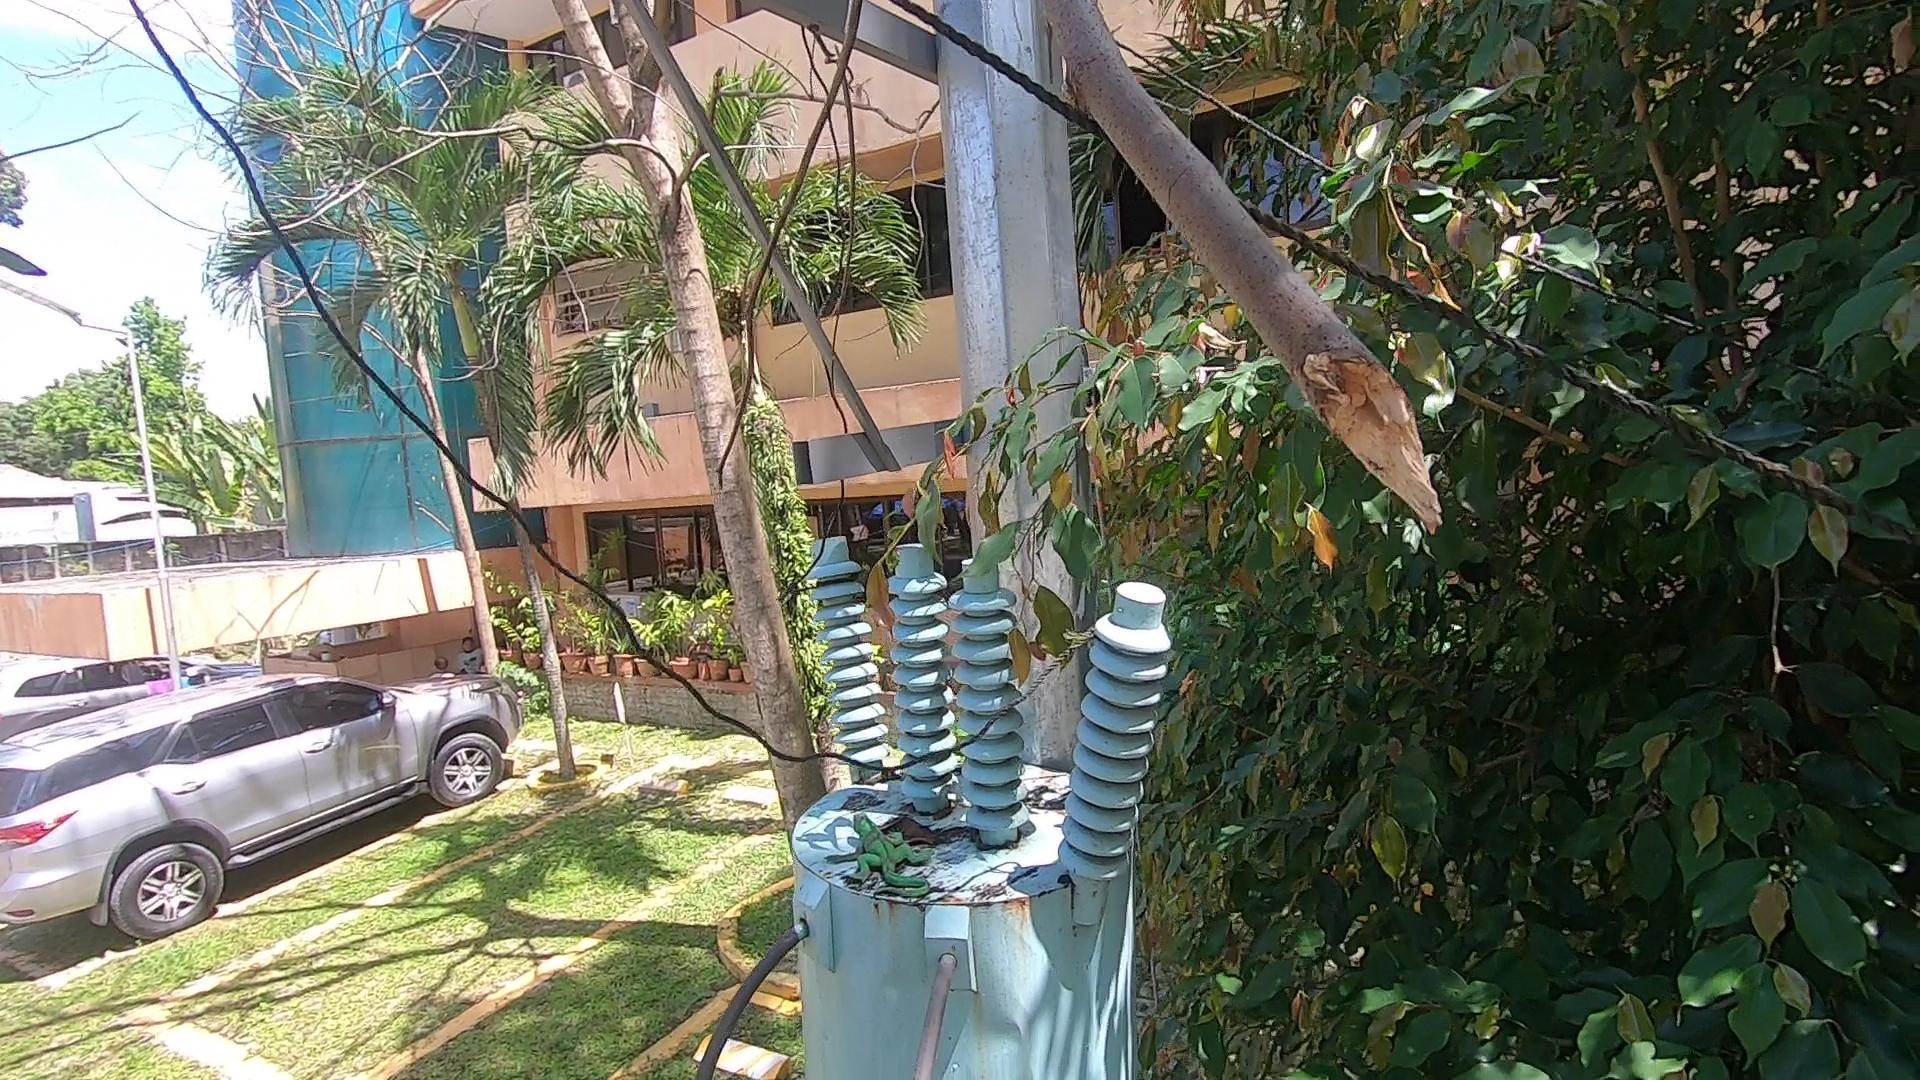branch with leaves: (847, 363, 1124, 682)
leaf: (858, 803, 994, 855), (855, 762, 919, 796), (1022, 771, 1069, 816)
tree branch: (971, 1, 1462, 534)
